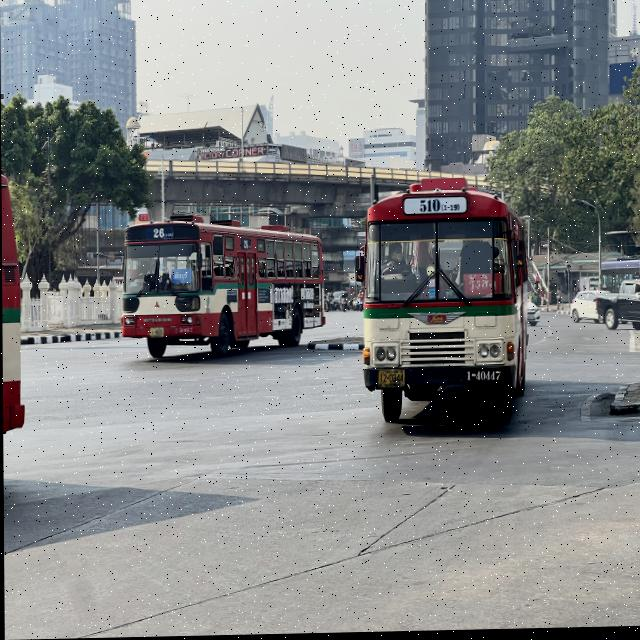BMTA-bus: (360, 179, 529, 426), (120, 217, 326, 362), (1, 173, 22, 435)
Bus Line Number: (415, 195, 463, 216), (148, 225, 174, 240)
Bus Side Number: (464, 370, 505, 384), (172, 327, 194, 336)
Destination Sign: (464, 273, 503, 298), (171, 270, 190, 285)
